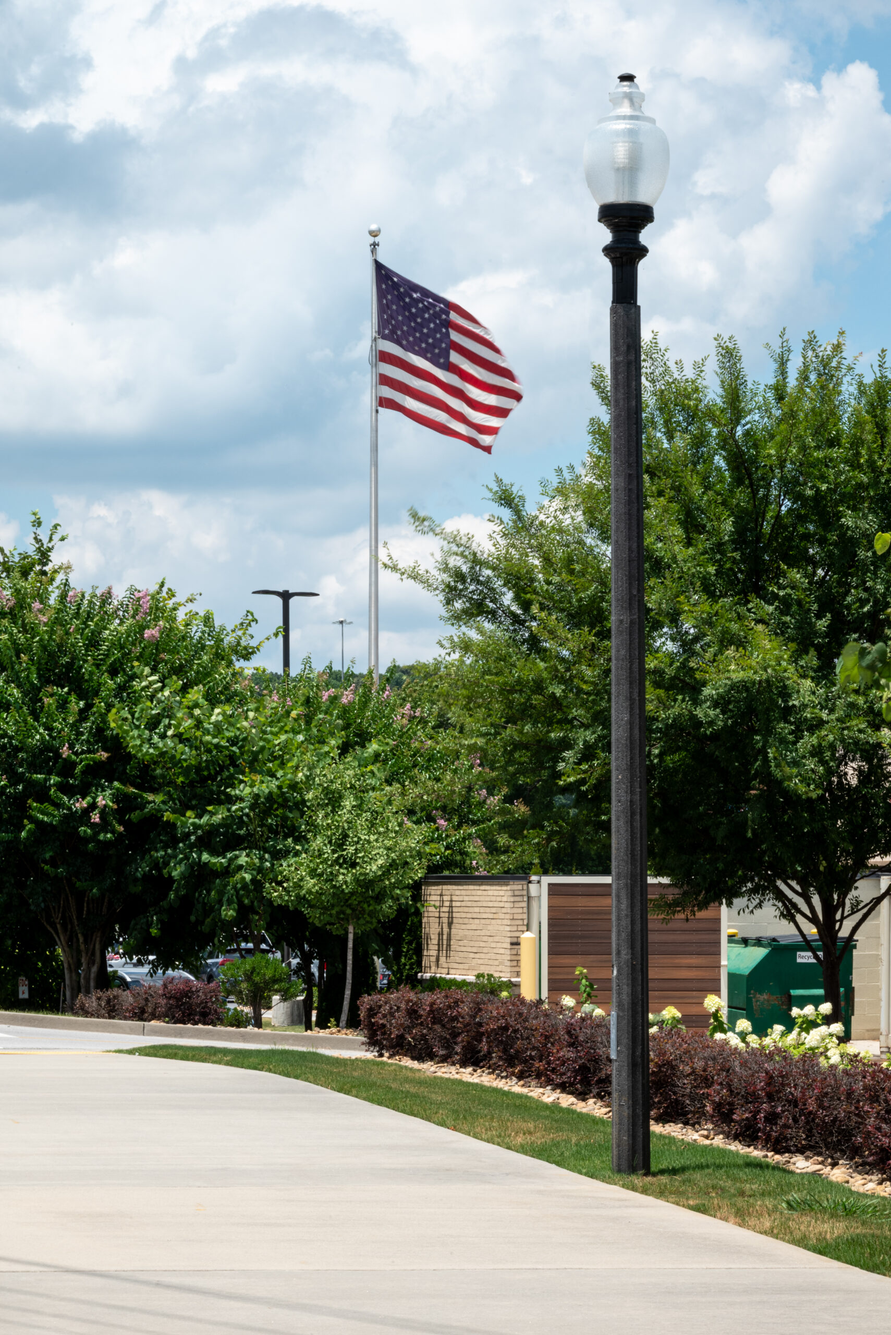light_pole: (578, 68, 687, 1186)
